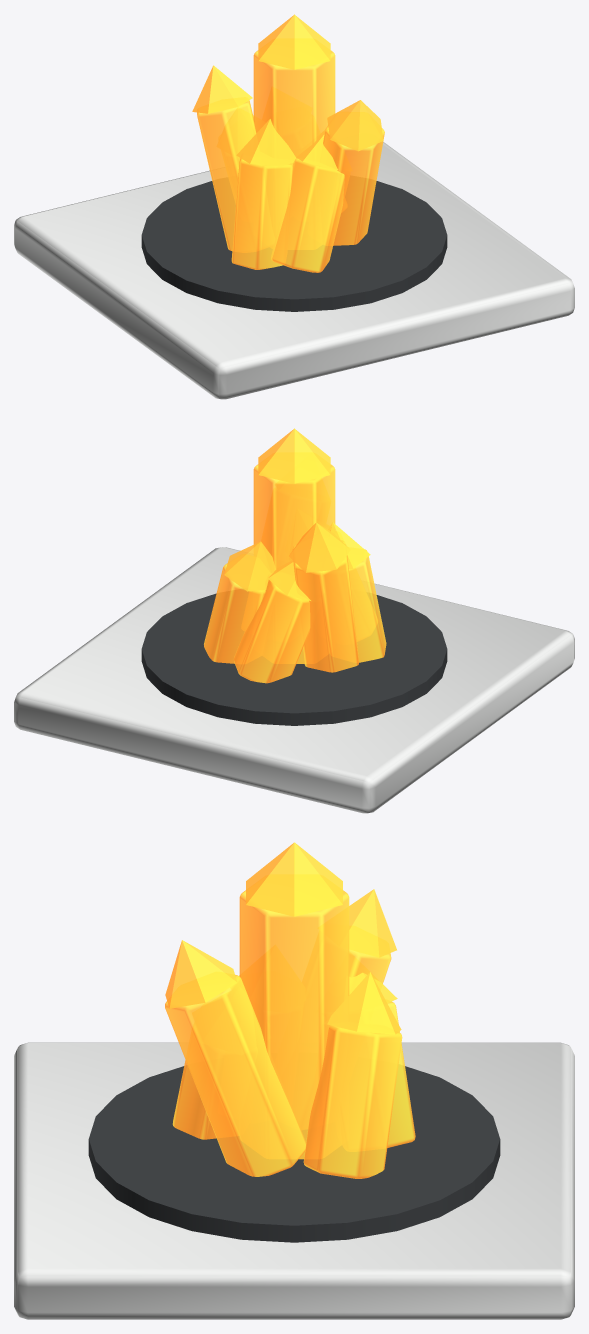
File: proteina.glb
3 renders of one model, top to bottom at view 1: azimuth 30°, elevation 25°; view 2: azimuth 150°, elevation 25°; view 3: azimuth 270°, elevation 25°, orthographic. The views are drawn at different scales.
Parts seen in each view (by area): view 1: placa, pocillo, prisma0, prisma5, prisma4, prisma3, prisma6, punta0, punta6, punta4, punta3, punta5; view 2: placa, pocillo, prisma0, prisma2, prisma3, prisma1, punta0, prisma4, punta3, punta1, punta2, punta4; view 3: placa, pocillo, prisma0, prisma6, prisma1, punta0, punta6, punta1, punta3, prisma5, prisma2, prisma3.
Part boxes in pixels (x1,y1,x2,y2): placa: (14,142,574,399); pocillo: (141,181,447,311); prisma0: (253,50,335,158); prisma5: (272,158,344,272); prisma4: (231,158,293,269); prisma3: (197,100,256,250); prisma6: (323,125,384,245); punta0: (258,14,330,69); punta6: (327,100,383,151); punta4: (236,119,296,166); punta3: (192,65,252,113); punta5: (296,130,338,169); placa: (14,547,574,813); pocillo: (141,593,447,725); prisma0: (253,464,335,663); prisma2: (233,579,310,683); prisma3: (292,540,358,672); prisma1: (204,563,265,663); punta0: (258,428,330,483); prisma4: (349,549,386,662); punta3: (289,522,350,572); punta1: (224,541,276,591); punta2: (268,560,311,600); punta4: (330,522,370,569); placa: (14,1042,574,1319); pocillo: (88,1066,500,1242); prisma0: (239,890,349,1159); prisma6: (165,974,305,1176); prisma1: (303,1025,402,1178); punta0: (246,842,342,916); punta6: (165,940,237,1008); punta1: (327,972,401,1034); punta3: (349,889,396,957); prisma5: (172,1060,216,1139); prisma2: (387,1001,415,1147); prisma3: (349,949,391,983).
Bounding box in the file's own units: 0.06 × 0.043 × 0.06.
